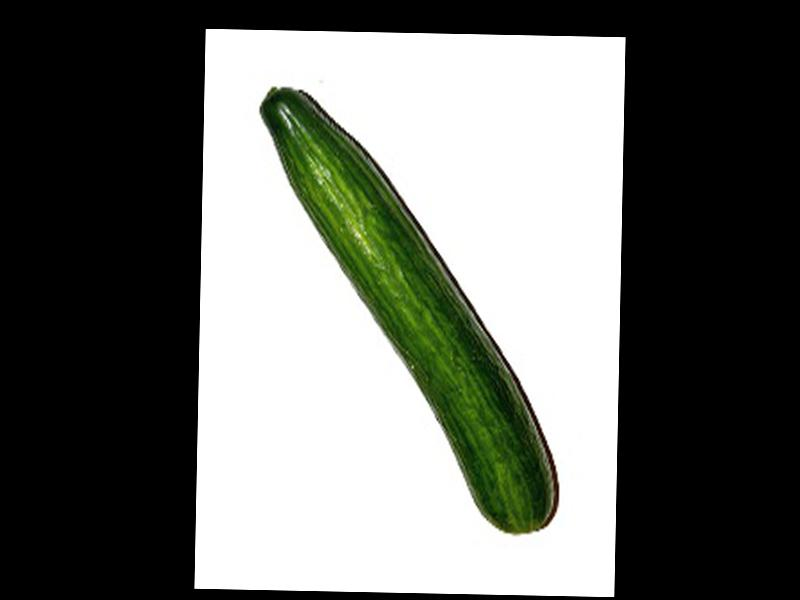Cucumber: (251, 87, 565, 534)
